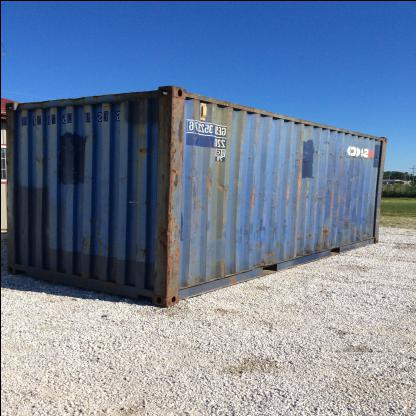Damage: (151, 104, 187, 300), (306, 164, 377, 258), (184, 106, 200, 289), (118, 90, 152, 127), (202, 164, 230, 208), (228, 222, 269, 252), (291, 131, 305, 214), (34, 135, 58, 181), (245, 114, 263, 174), (270, 168, 282, 250), (77, 226, 108, 257), (282, 180, 292, 264), (230, 172, 245, 208), (246, 174, 258, 216), (129, 240, 147, 264), (251, 250, 275, 267), (312, 140, 336, 156), (211, 258, 230, 278), (131, 143, 147, 165), (78, 176, 86, 218), (336, 152, 376, 160), (294, 223, 302, 258), (16, 98, 51, 106), (54, 94, 86, 102), (272, 126, 286, 144), (40, 221, 54, 238), (102, 92, 114, 109), (79, 132, 95, 144), (114, 240, 122, 258), (17, 224, 27, 235), (98, 142, 108, 152), (82, 102, 94, 110), (105, 171, 113, 181), (32, 120, 42, 128), (117, 174, 129, 180), (142, 196, 148, 205), (93, 92, 100, 99), (114, 130, 122, 134), (115, 149, 122, 153)
